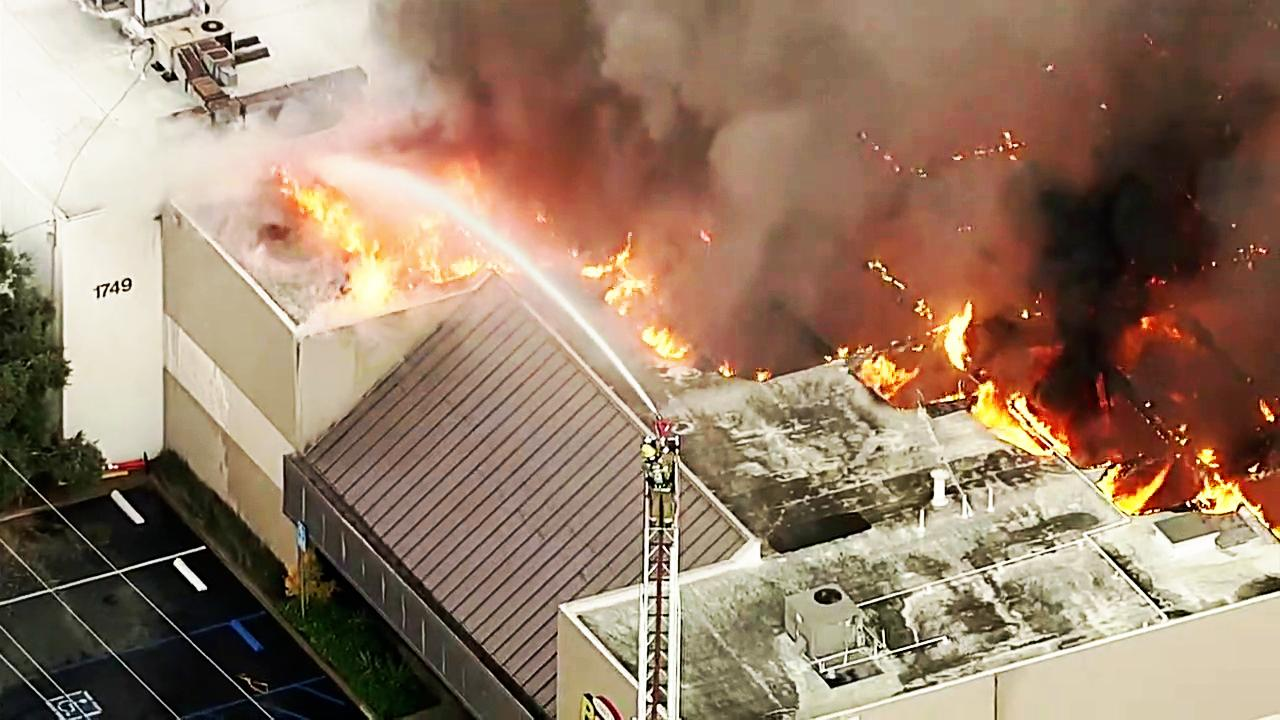smoke: (622, 0, 1063, 162)
